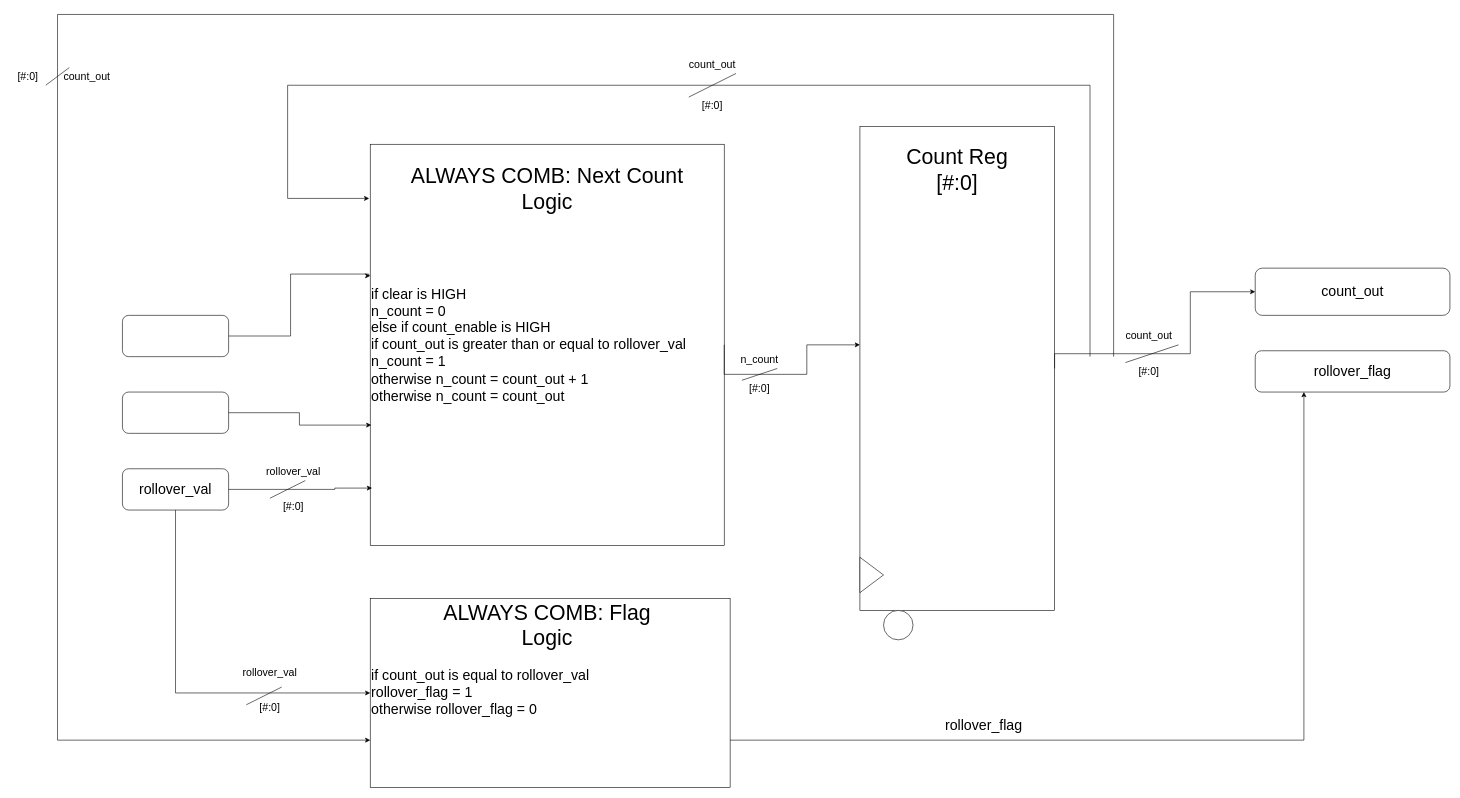
This 1460x798 diagram has some shape labels left out. Each missing label, with the centre of its shape:
clear: the point at 175,336
count_enable: the point at 175,412
